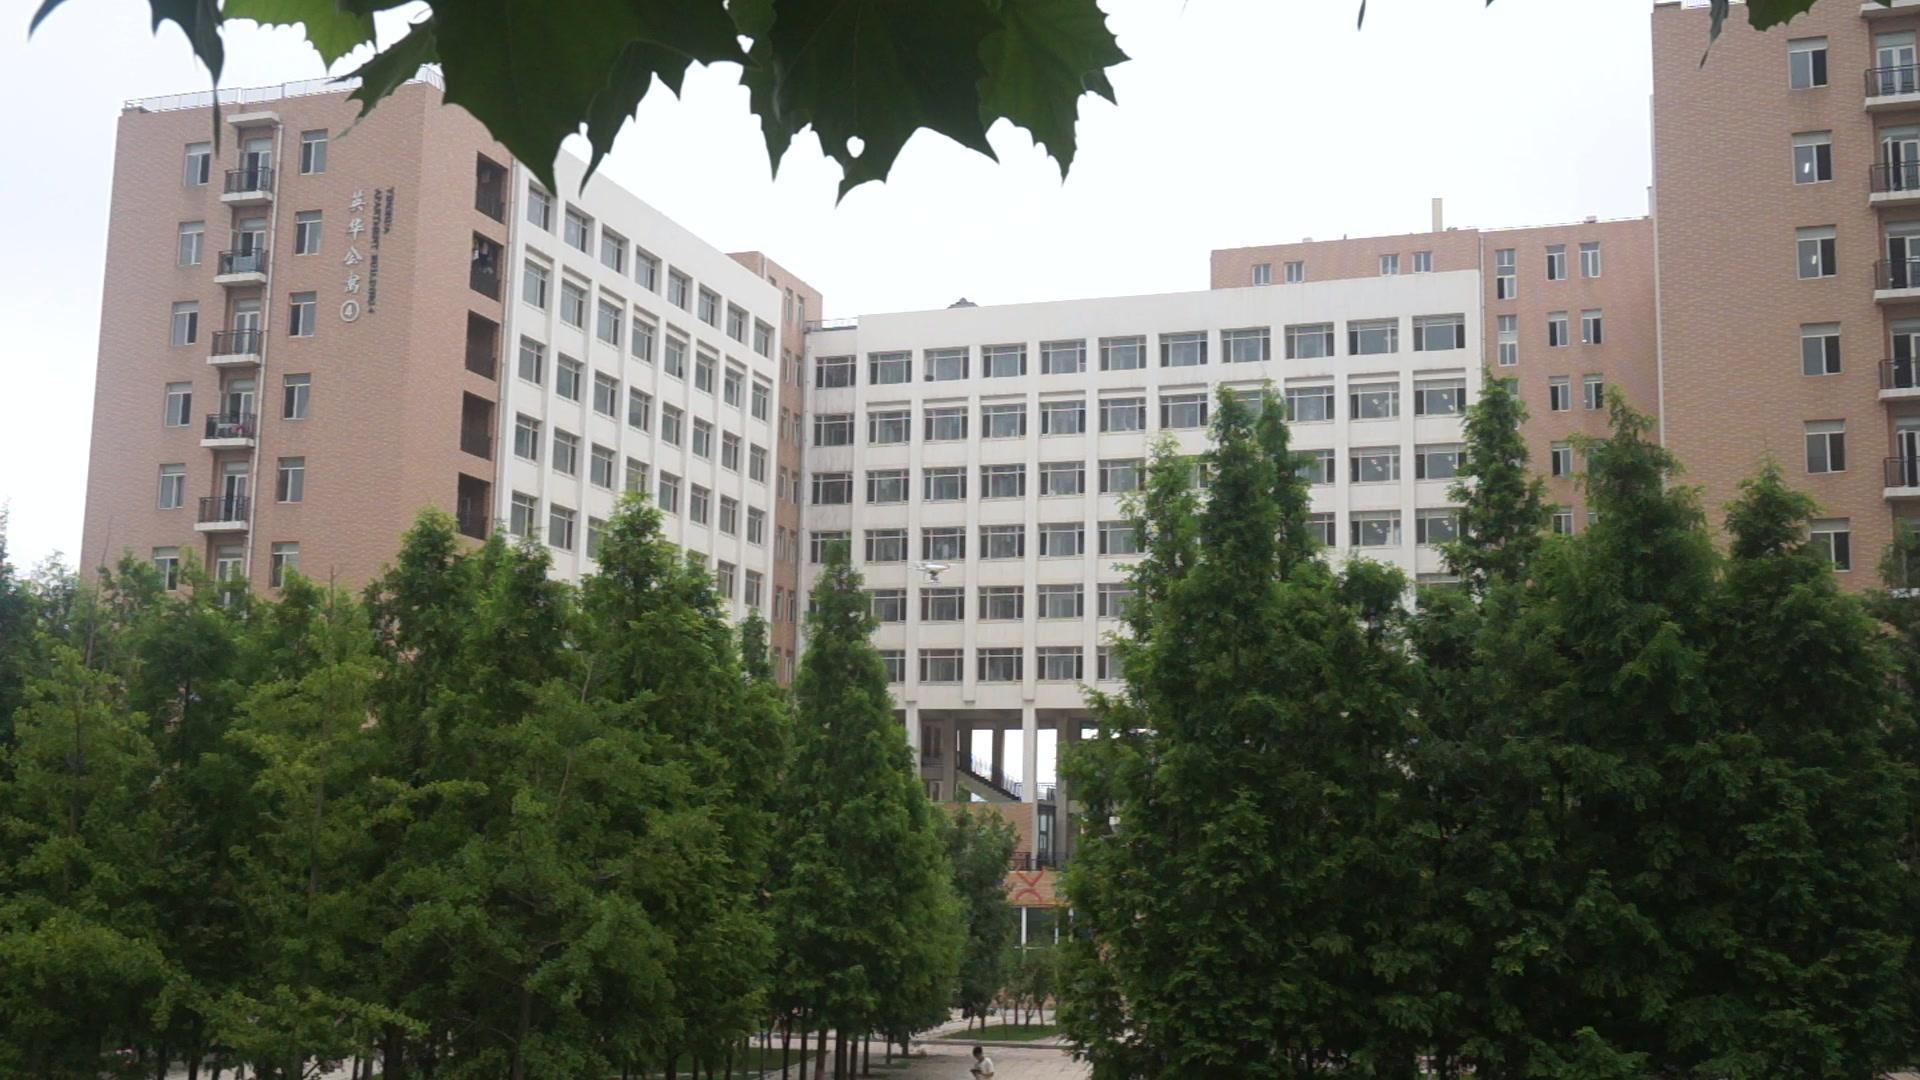UAV: (909, 560, 955, 585)
